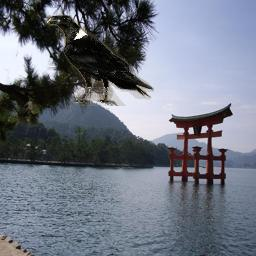Crow: (46, 15, 154, 106)
